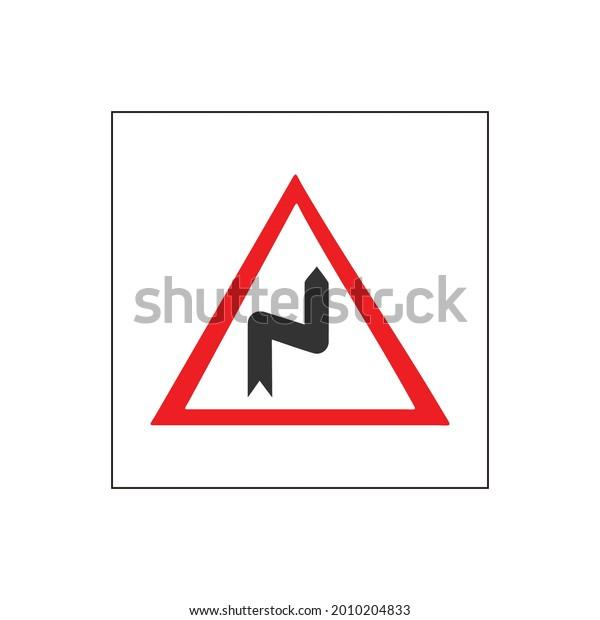Right Reverse Bend: (140, 172, 456, 444)
